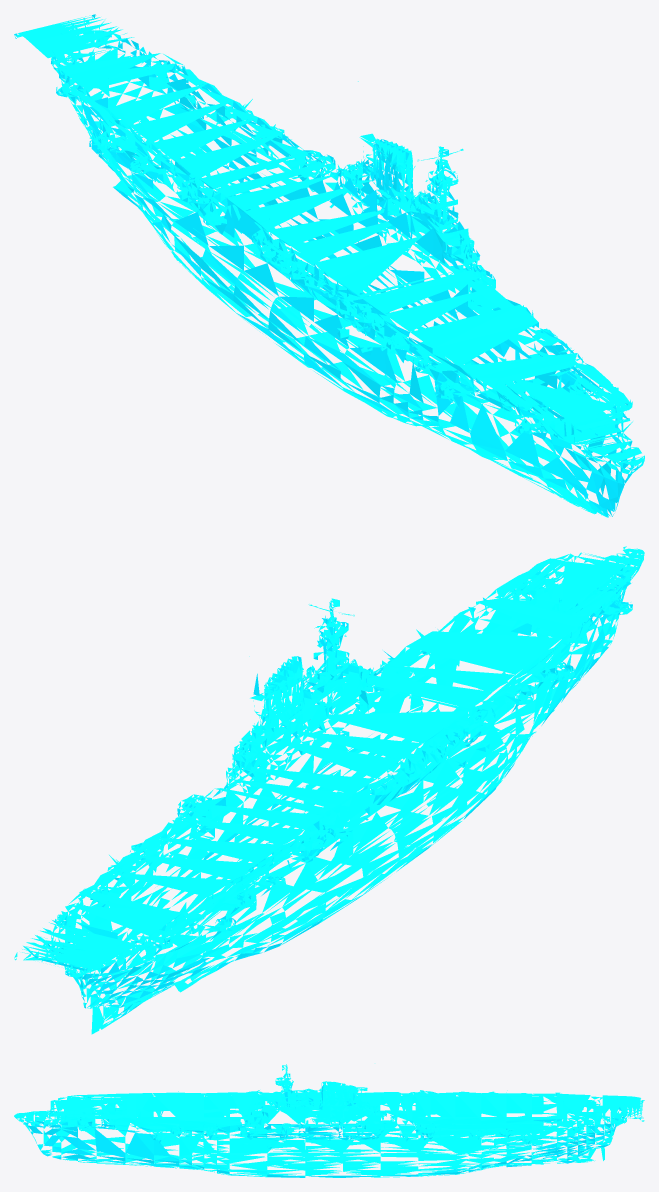
Rendered from Aquila.glb.
3 views of the same model, one above another, from view 1: azimuth 30°, elevation 25°; view 2: azimuth 150°, elevation 25°; view 3: azimuth 270°, elevation 25° (orthographic). The views are drawn at different scales.
Bounding box in the file's own units: 2.51 × 3.13 × 15.55.
